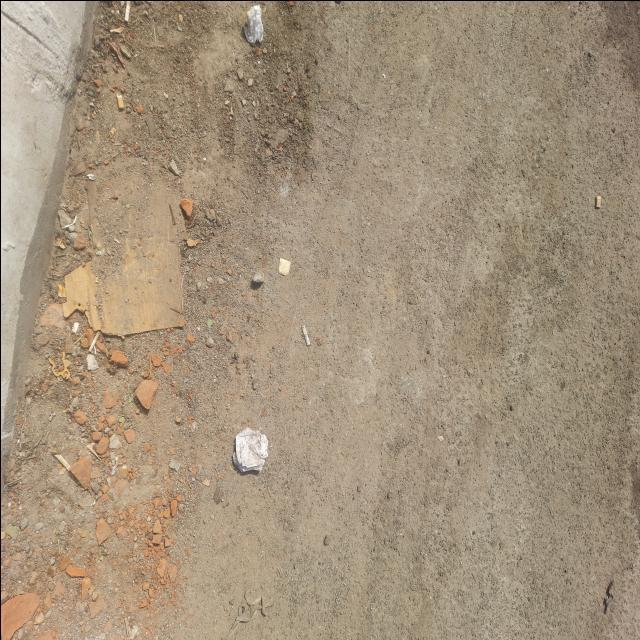Background: (0, 0, 640, 640)
Cig_bud: (88, 330, 100, 352), (54, 453, 70, 468), (301, 325, 310, 345), (115, 90, 124, 110), (124, 0, 130, 20), (594, 195, 600, 208)
Plastic_wraper: (114, 467, 121, 477)
